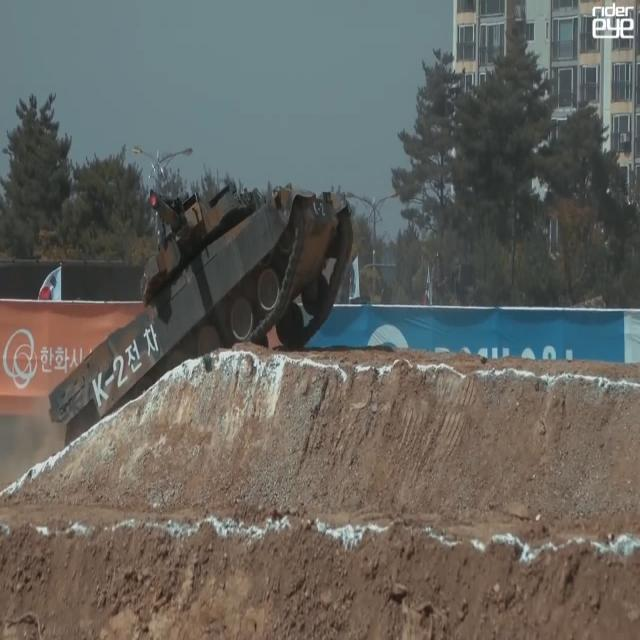korea tank: (46, 186, 355, 448)
